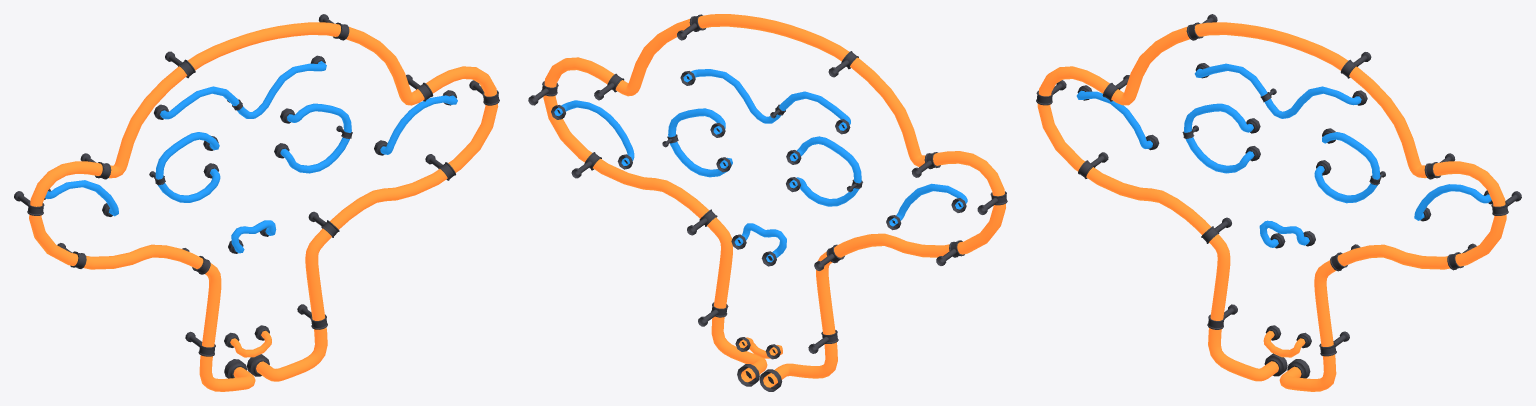
The model's file is Light_Neon_Suzanne.glb.
3 views of the same model, side by side, from view 1: azimuth 30°, elevation 25°; view 2: azimuth 150°, elevation 25°; view 3: azimuth 330°, elevation 25° (orthographic).
Visible parts, largest first — view 1: Light_Neon_Suzanne.001; view 2: Light_Neon_Suzanne.001; view 3: Light_Neon_Suzanne.001.
Boxes of the visible parts, bbox=[...] form: Light_Neon_Suzanne.001: bbox=[14, 14, 499, 391]; Light_Neon_Suzanne.001: bbox=[528, 14, 1007, 391]; Light_Neon_Suzanne.001: bbox=[1036, 14, 1521, 391].
Size of the model in its own units: 1.28 by 0.932 by 0.1028.
